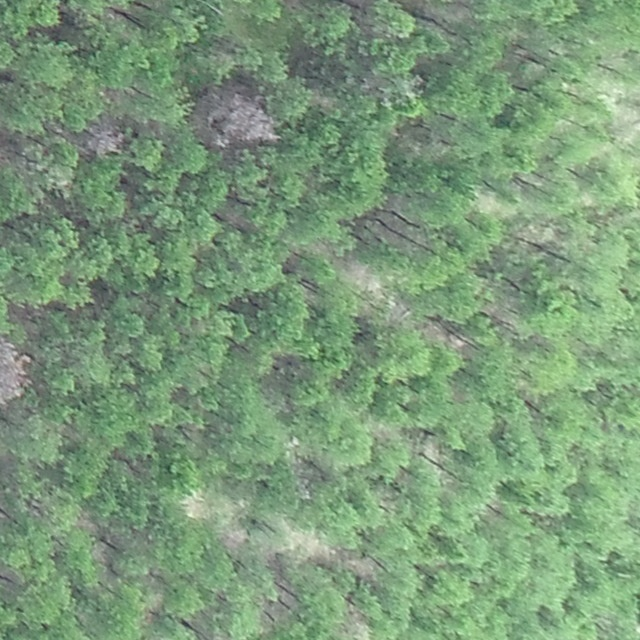unhealthy: (195, 85, 279, 150), (0, 336, 30, 408), (82, 119, 126, 156), (219, 526, 249, 553)
